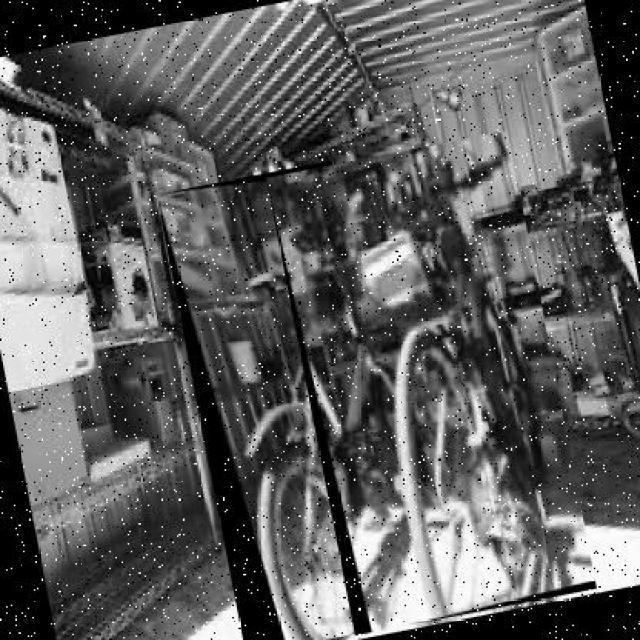bicycle: (266, 131, 599, 637), (156, 161, 424, 640)
